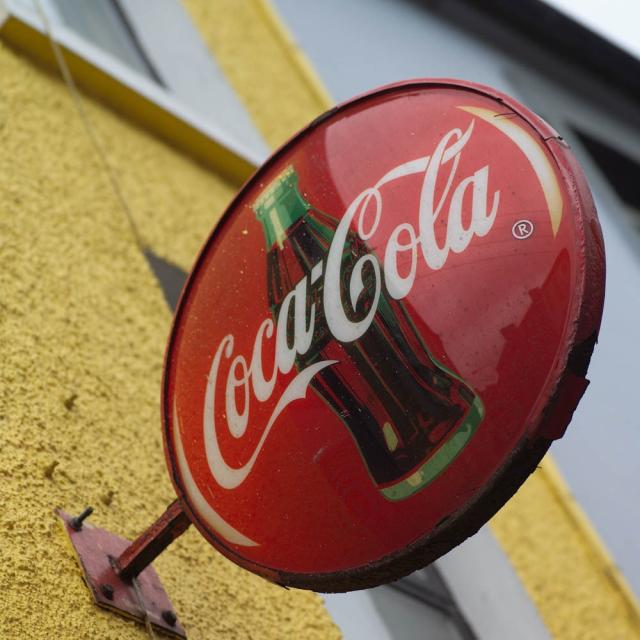cocacola: (196, 112, 512, 495)
